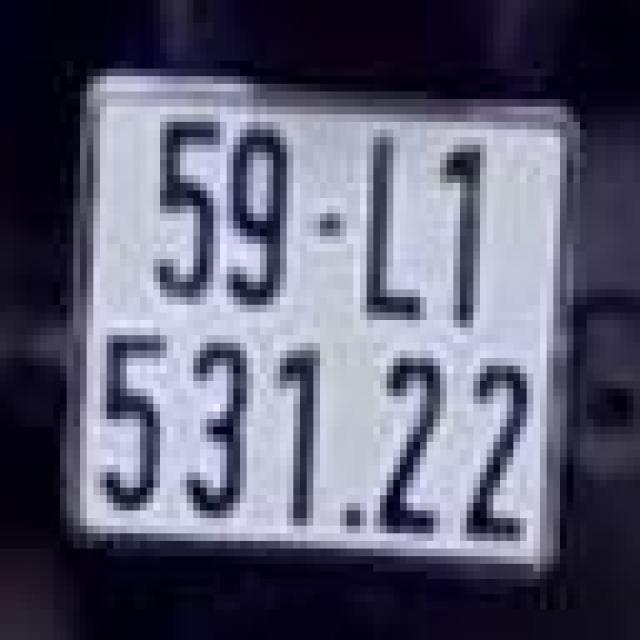1: (263, 336, 330, 534), (436, 133, 496, 339)
2: (370, 354, 450, 537), (460, 350, 533, 541)
3: (183, 332, 257, 530)
5: (140, 106, 227, 304), (94, 320, 174, 526)
9: (226, 114, 306, 320)
L: (347, 118, 433, 332)
